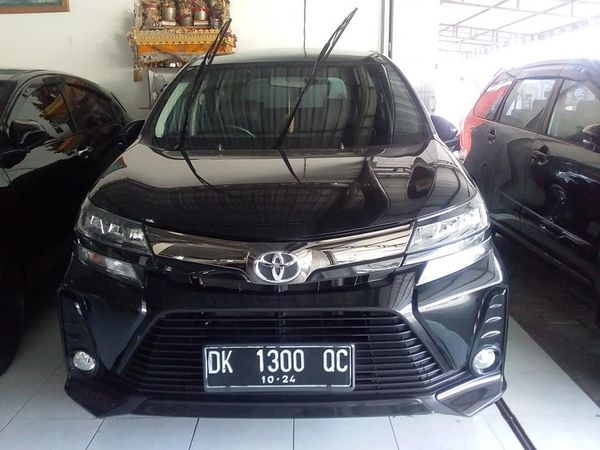plate: (201, 340, 352, 388)
